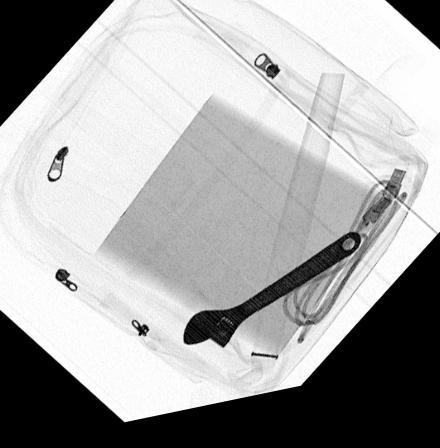Wrench: (180, 243, 363, 360)
